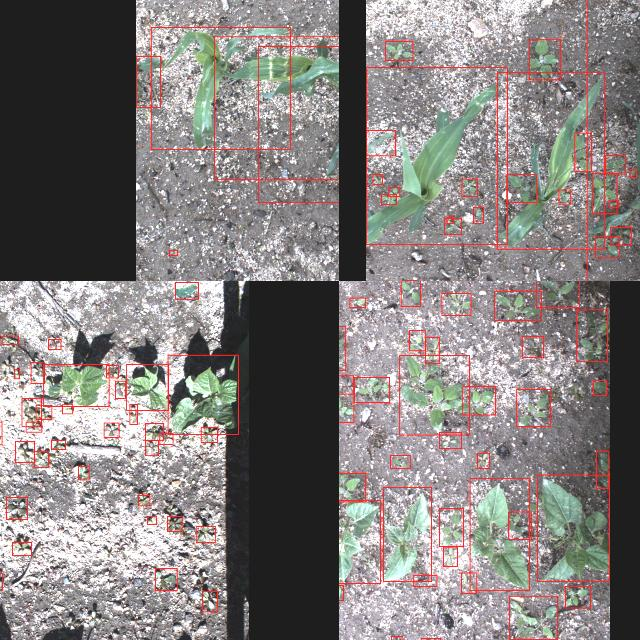crop: (366, 66, 506, 244), (496, 72, 604, 248), (213, 36, 339, 179), (150, 27, 290, 149), (586, 0, 640, 281), (257, 45, 339, 202), (537, 474, 609, 580), (469, 478, 529, 590), (168, 354, 238, 434), (383, 487, 431, 581), (339, 499, 380, 582), (43, 364, 109, 406), (126, 364, 168, 410), (366, 130, 394, 154)
weed: (399, 354, 469, 434), (508, 596, 558, 638), (576, 309, 608, 361), (494, 290, 542, 320), (516, 388, 550, 426), (528, 39, 560, 79), (136, 56, 160, 106), (535, 281, 578, 306), (592, 173, 616, 213), (462, 386, 496, 414), (439, 508, 463, 546), (354, 376, 388, 402), (506, 174, 536, 202), (339, 472, 364, 501), (574, 132, 592, 170), (508, 511, 532, 539), (442, 293, 471, 315), (564, 585, 590, 607), (384, 40, 412, 60), (21, 398, 41, 426), (595, 236, 619, 258), (155, 568, 177, 590), (400, 281, 420, 305), (6, 497, 27, 519), (596, 450, 608, 488), (521, 336, 543, 356), (14, 441, 34, 462), (339, 393, 353, 422), (610, 226, 632, 244), (605, 154, 625, 173), (175, 282, 198, 298), (425, 337, 439, 363), (439, 432, 461, 448), (145, 422, 163, 440), (460, 572, 476, 592), (408, 330, 424, 350), (202, 590, 216, 612), (461, 178, 477, 196), (200, 426, 218, 442), (196, 526, 214, 542), (30, 362, 44, 382), (443, 546, 457, 566), (390, 454, 410, 468), (444, 218, 461, 234), (414, 574, 436, 586), (339, 375, 352, 393), (166, 516, 182, 530), (34, 451, 48, 467), (35, 405, 51, 419), (12, 542, 30, 554), (104, 422, 118, 436), (144, 440, 158, 454), (593, 380, 607, 394), (477, 452, 489, 468), (115, 380, 125, 398), (558, 189, 570, 203), (106, 364, 118, 378), (473, 207, 483, 223), (380, 194, 396, 204), (129, 403, 137, 423), (25, 421, 41, 431), (349, 297, 365, 307), (138, 494, 150, 506), (50, 439, 66, 448), (78, 465, 88, 479), (1, 335, 18, 343), (160, 432, 172, 443), (48, 339, 61, 349), (372, 174, 382, 184), (62, 404, 72, 414), (388, 187, 398, 196), (146, 515, 156, 523), (608, 200, 618, 207), (13, 368, 19, 378), (420, 637, 440, 640), (390, 635, 402, 640), (630, 169, 636, 177), (339, 584, 342, 599), (446, 216, 452, 222), (168, 250, 176, 254)
